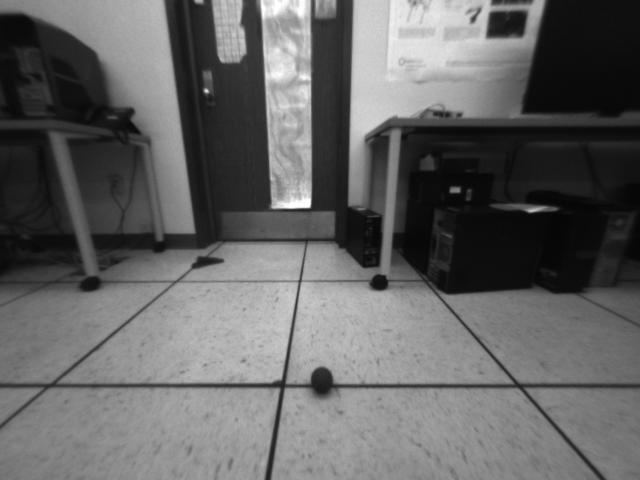dogtoy: (304, 360, 342, 400)
